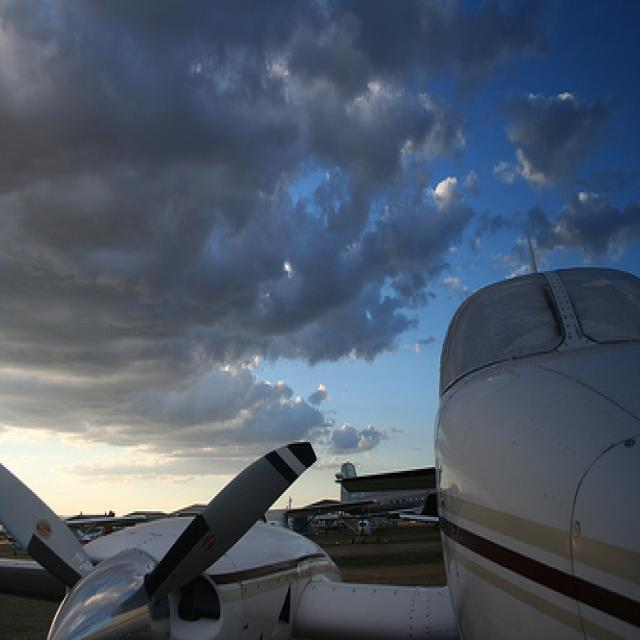aeroplane: (1, 266, 640, 639)
